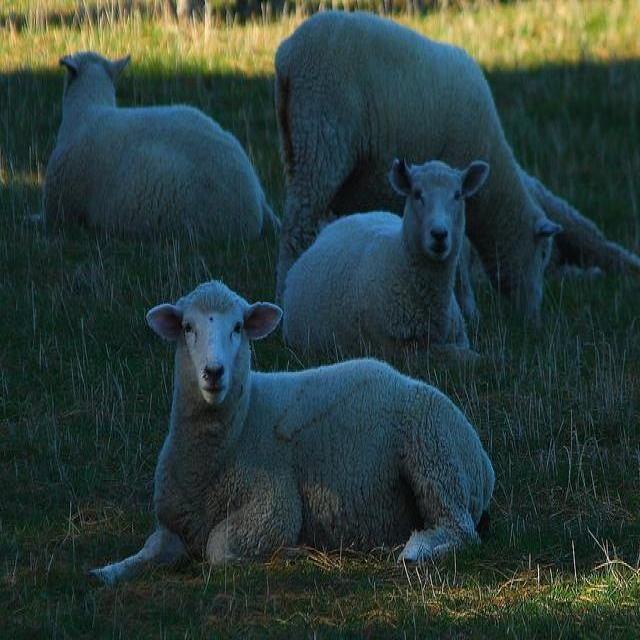Sheep: (80, 282, 499, 602), (276, 12, 561, 324), (14, 40, 282, 244), (281, 158, 504, 396)
